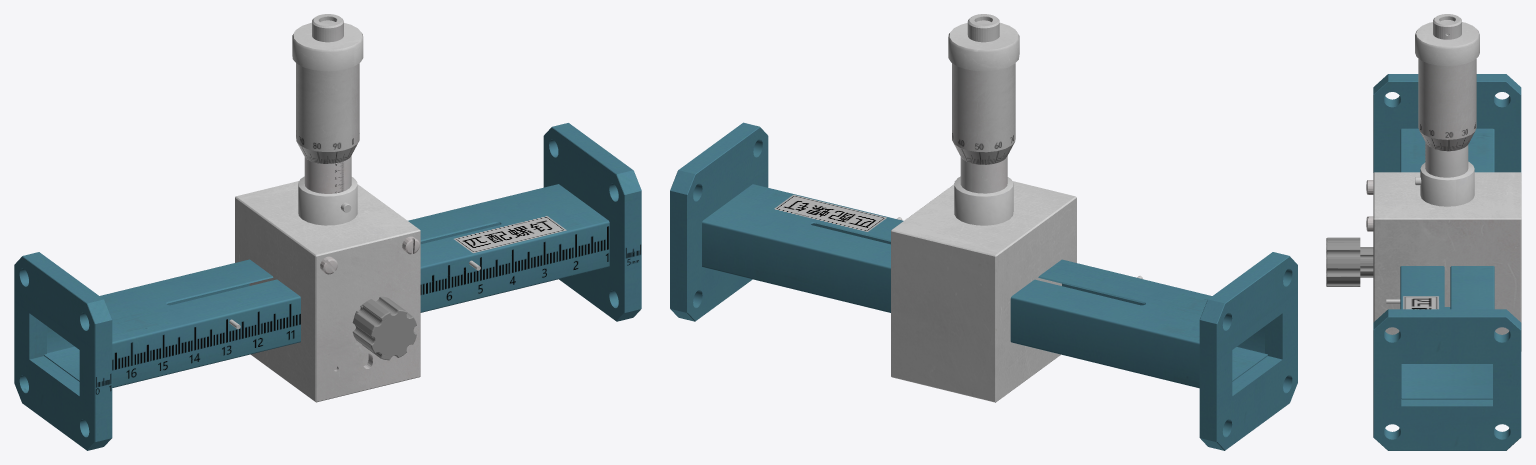
The model's file is PiPeiLuoDing.FBX.
3 renders of one model, left to right at view 1: azimuth 30°, elevation 25°; view 2: azimuth 150°, elevation 25°; view 3: azimuth 270°, elevation 25°, orthographic. The views are drawn at different scales.
Parts seen in each view (by area): view 1: Box001, b1, Box002, Box004, c1, Frequency Select xuanniu006, 对象001, e1; view 2: Box001, b1, Box002, Box004, c1, 对象001, e1; view 3: Box004, b1, Box001, Box002, c1, Frequency Select xuanniu006, 对象001, e1.
Part boxes in pixels (x1,y1,x2,y2): Box001: (44, 184, 609, 387); b1: (235, 176, 420, 402); Box002: (14, 252, 112, 450); Box004: (543, 123, 641, 321); c1: (292, 22, 363, 163); Frequency Select xuanniu006: (352, 296, 416, 360); 对象001: (304, 156, 351, 193); e1: (312, 14, 343, 42); Box001: (702, 184, 1267, 388); b1: (891, 176, 1076, 402); Box002: (1199, 252, 1297, 450); Box004: (670, 122, 768, 321); c1: (948, 22, 1019, 164); 对象001: (960, 156, 1007, 193); e1: (967, 14, 999, 42); Box004: (1373, 309, 1521, 450); b1: (1366, 161, 1521, 351); Box001: (1400, 128, 1494, 399); Box002: (1373, 74, 1521, 172); c1: (1415, 22, 1479, 151); Frequency Select xuanniu006: (1326, 237, 1373, 286); 对象001: (1425, 142, 1468, 177); e1: (1433, 14, 1461, 39).
Size of the model in its own units: 155 by 92.32 by 52.69.
